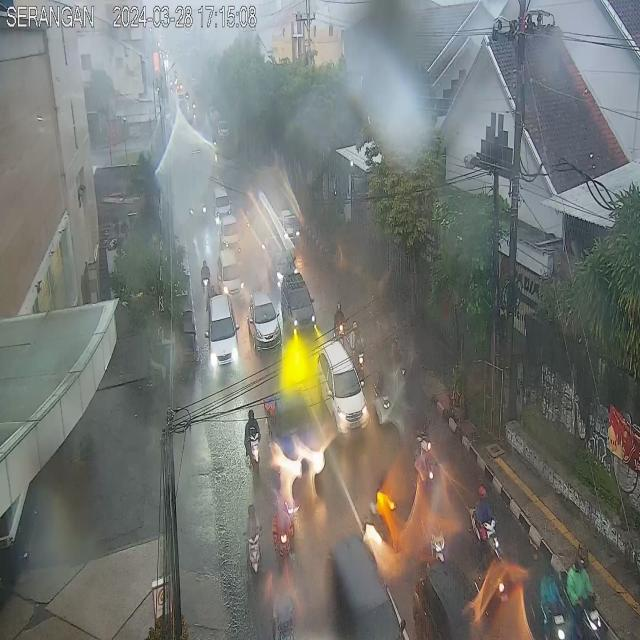car: (325, 532, 406, 640), (413, 559, 480, 640), (318, 341, 370, 435), (208, 292, 238, 368), (282, 272, 316, 337), (247, 291, 282, 353), (217, 247, 245, 298)
motorcycle: (566, 545, 606, 640), (530, 560, 569, 640), (469, 481, 501, 567), (244, 498, 263, 582), (244, 407, 260, 472), (349, 322, 366, 383), (334, 303, 346, 347)
